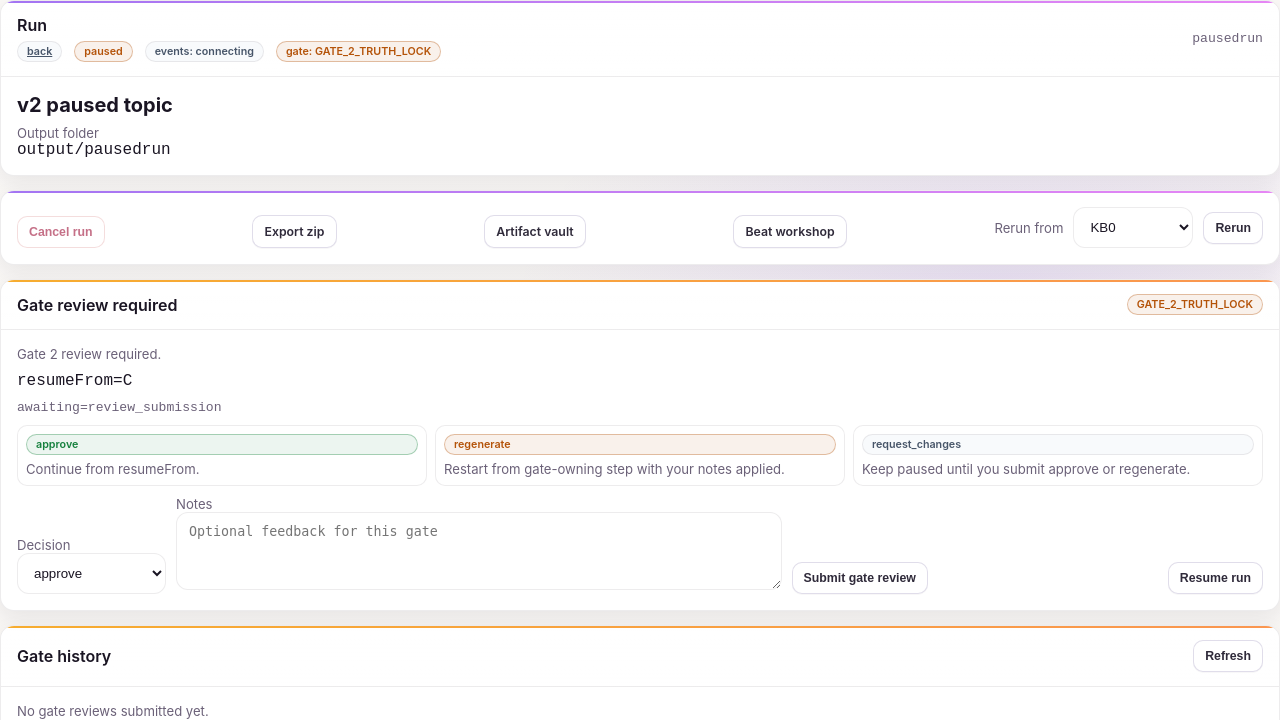
RunViewer › shows regenerate resume messaging when backend returns resumeMode=regenerate
Click the button "Resume run" at point(1215, 578), box [1168,562,1263,594]
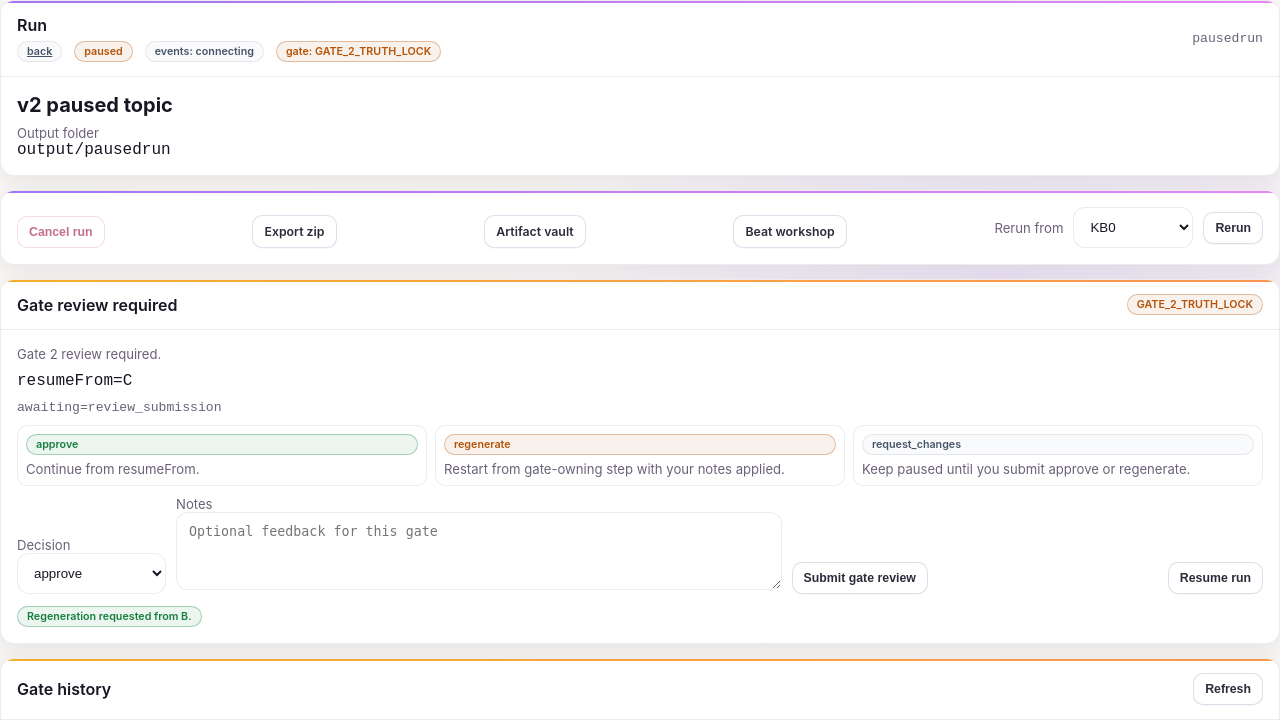
Result: the text "Regeneration requested from B." is shown at [17,606,202,627]
